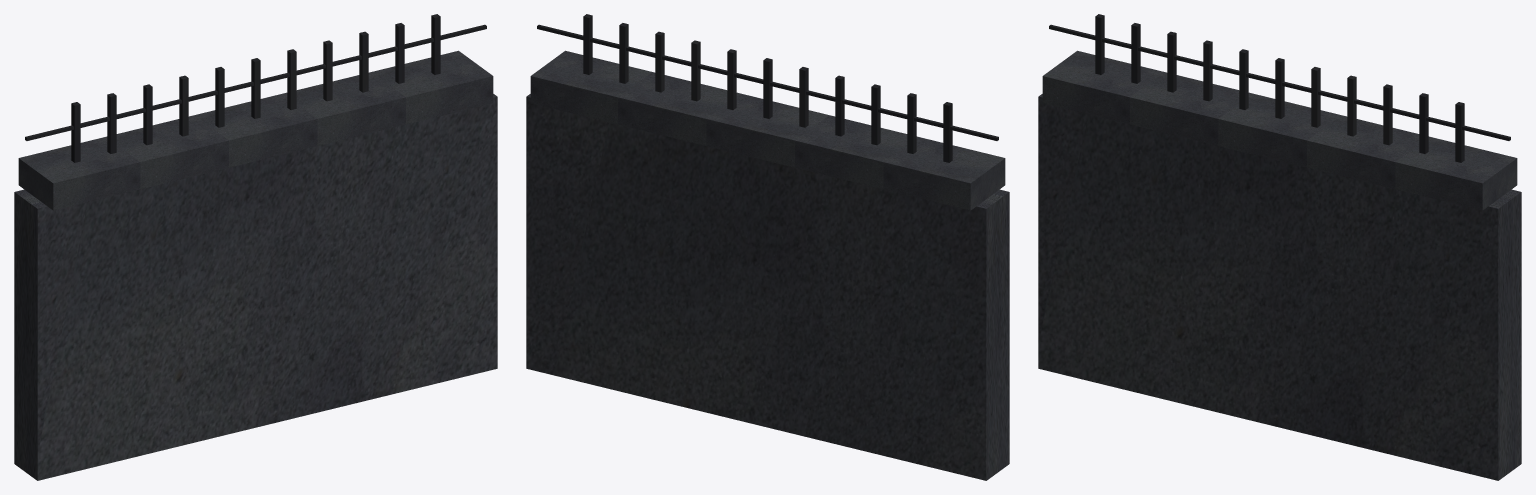
Rendered from wall.glb.
3 renders of one model, left to right at view 1: azimuth 30°, elevation 25°; view 2: azimuth 150°, elevation 25°; view 3: azimuth 330°, elevation 25°, orthographic.
Parts seen in each view (by area): view 1: Wall; view 2: Wall; view 3: Wall.
Boxes of the visible parts, bbox=[...] form: Wall: bbox=[14, 14, 497, 480]; Wall: bbox=[526, 14, 1009, 480]; Wall: bbox=[1038, 14, 1521, 480].
Size of the model in its own units: 4.6 by 3.41 by 0.6.
3 materials, 3 textured.
